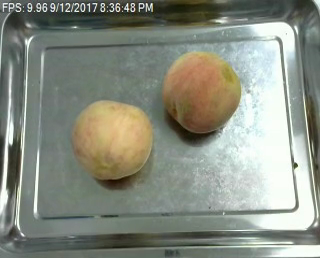Peach: (162, 50, 241, 134), (71, 99, 152, 180)
